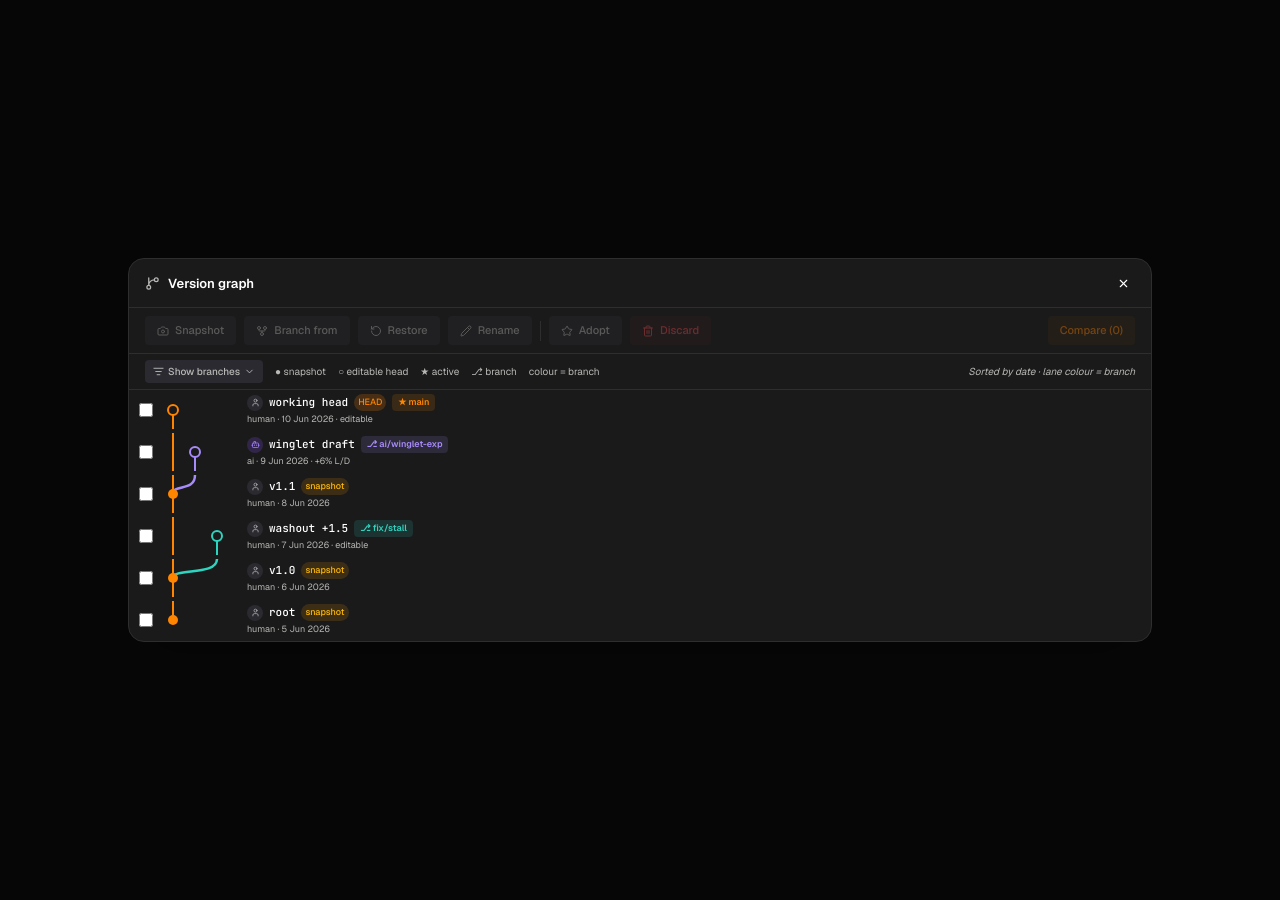
Scenario: VersionGraphOverlay (gh-961) › toolbar enable/disable › selecting a snapshot node: Restore enabled, Snapshot disabled
The width and height of the screenshot is (1280, 900).
Click the row with test id "graph-row-20" at (200, 494), box [139,475,348,513]
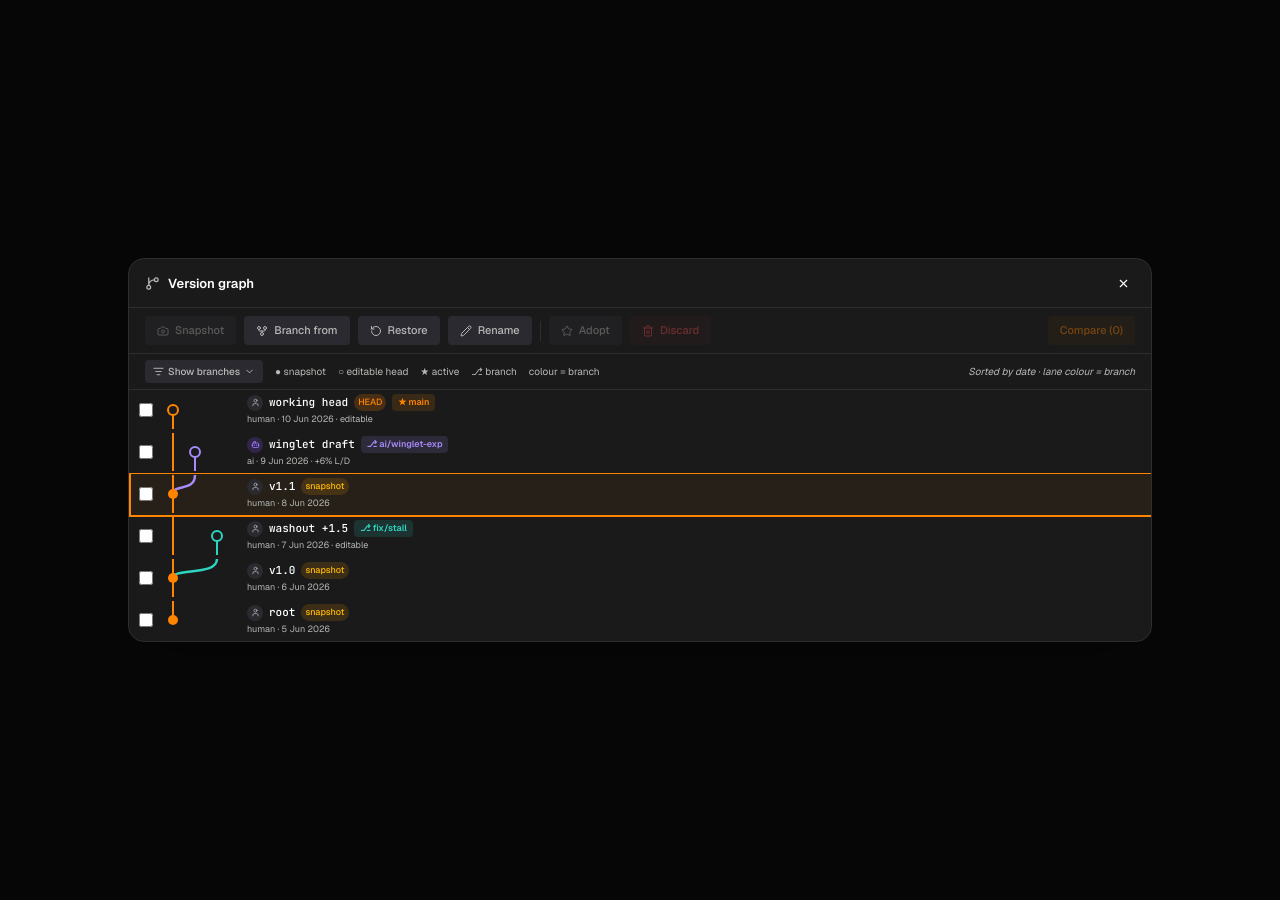
Check: the button "Snapshot" is disabled, box [145,316,236,345]
Check: the button "Restore" is enabled, box [358,316,440,345]
Check: the button "Branch from" is enabled, box [244,316,350,345]
